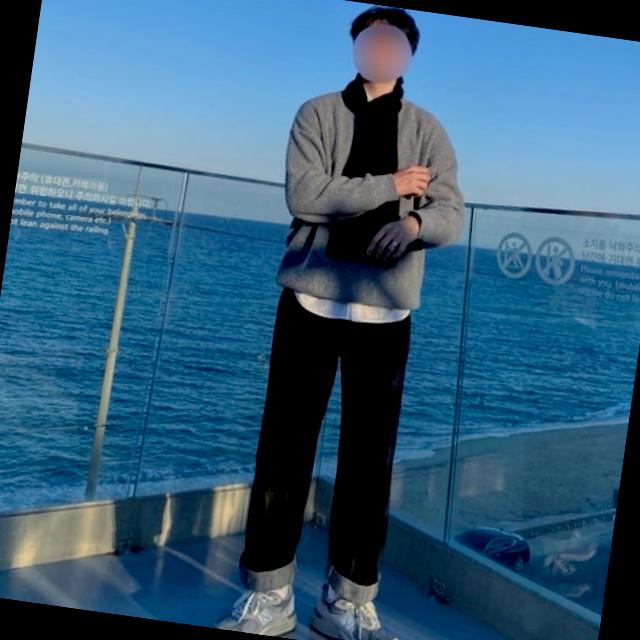denimpants: (233, 282, 420, 602)
sweater: (266, 77, 480, 316)
